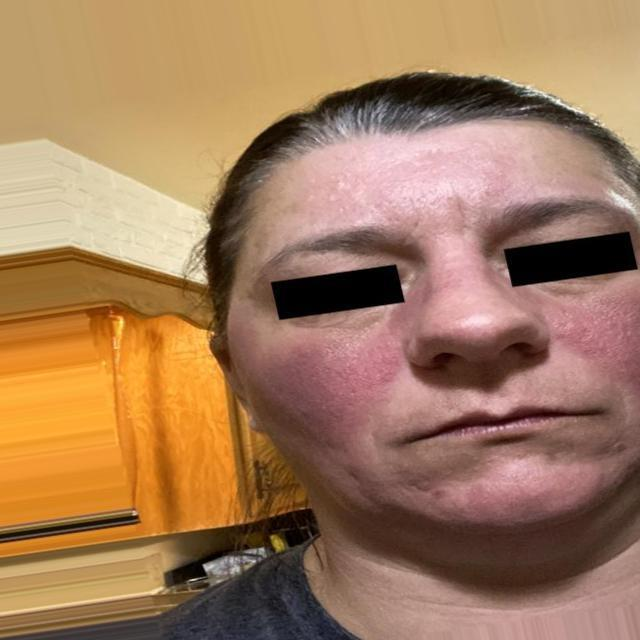Rosacea: (252, 317, 412, 472), (550, 284, 640, 402), (436, 468, 610, 523)
